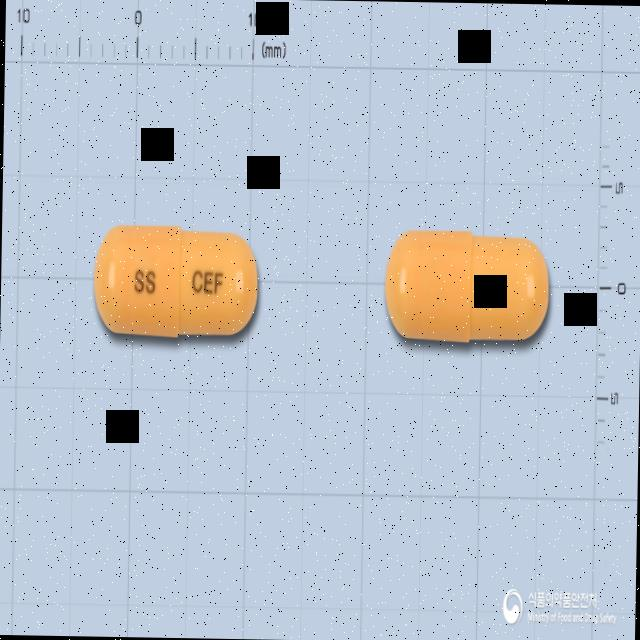Cefixime Cap- Samsung: (90, 217, 264, 349)
